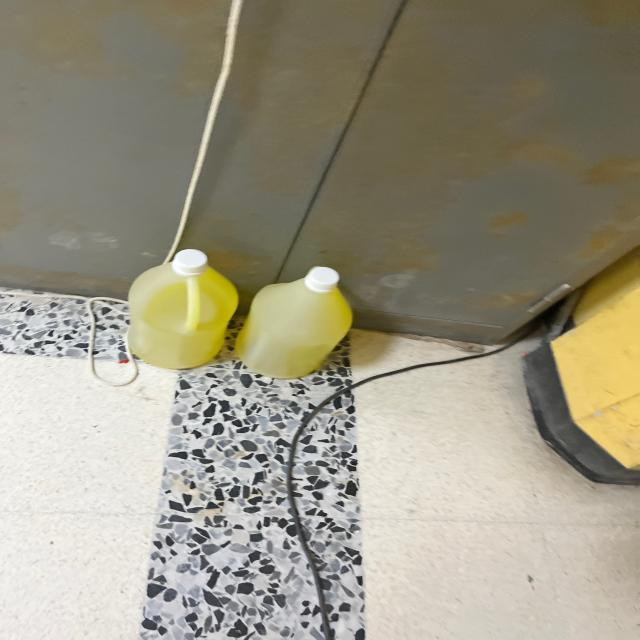HDPE Plastic: (234, 254, 360, 387), (134, 249, 238, 385)
